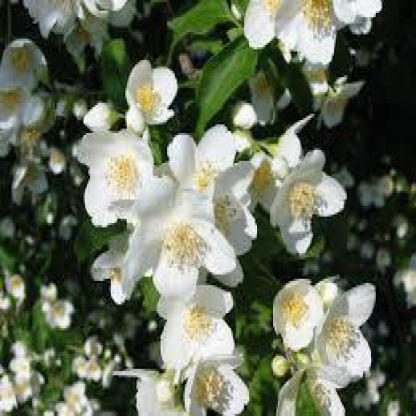Melati: (60, 70, 255, 293), (261, 267, 380, 387), (255, 121, 348, 250)
